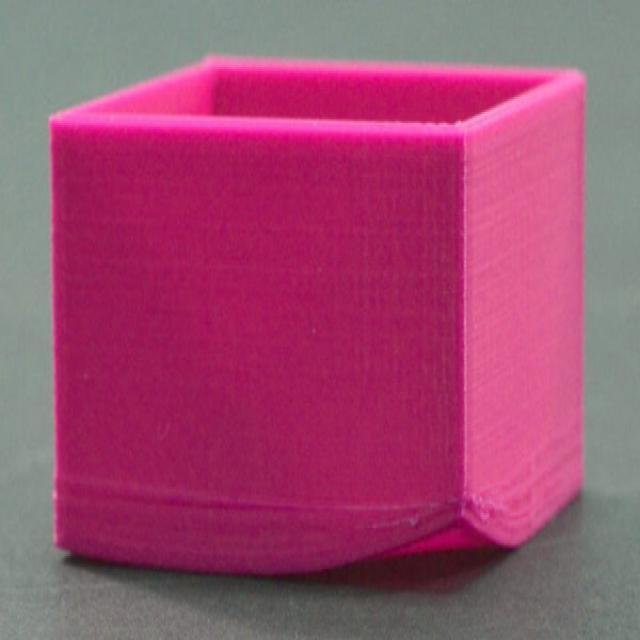Warping: (315, 496, 534, 606)
